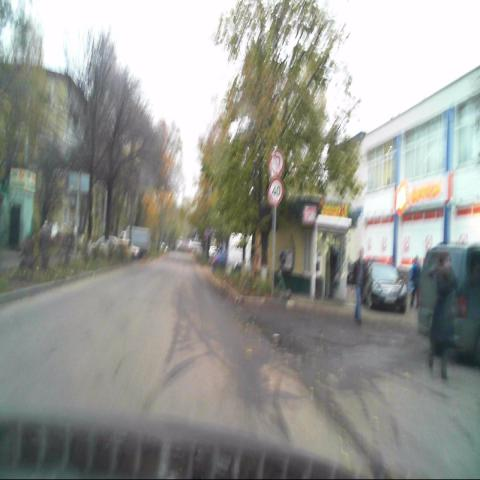3_18_2: (270, 149, 284, 175)
